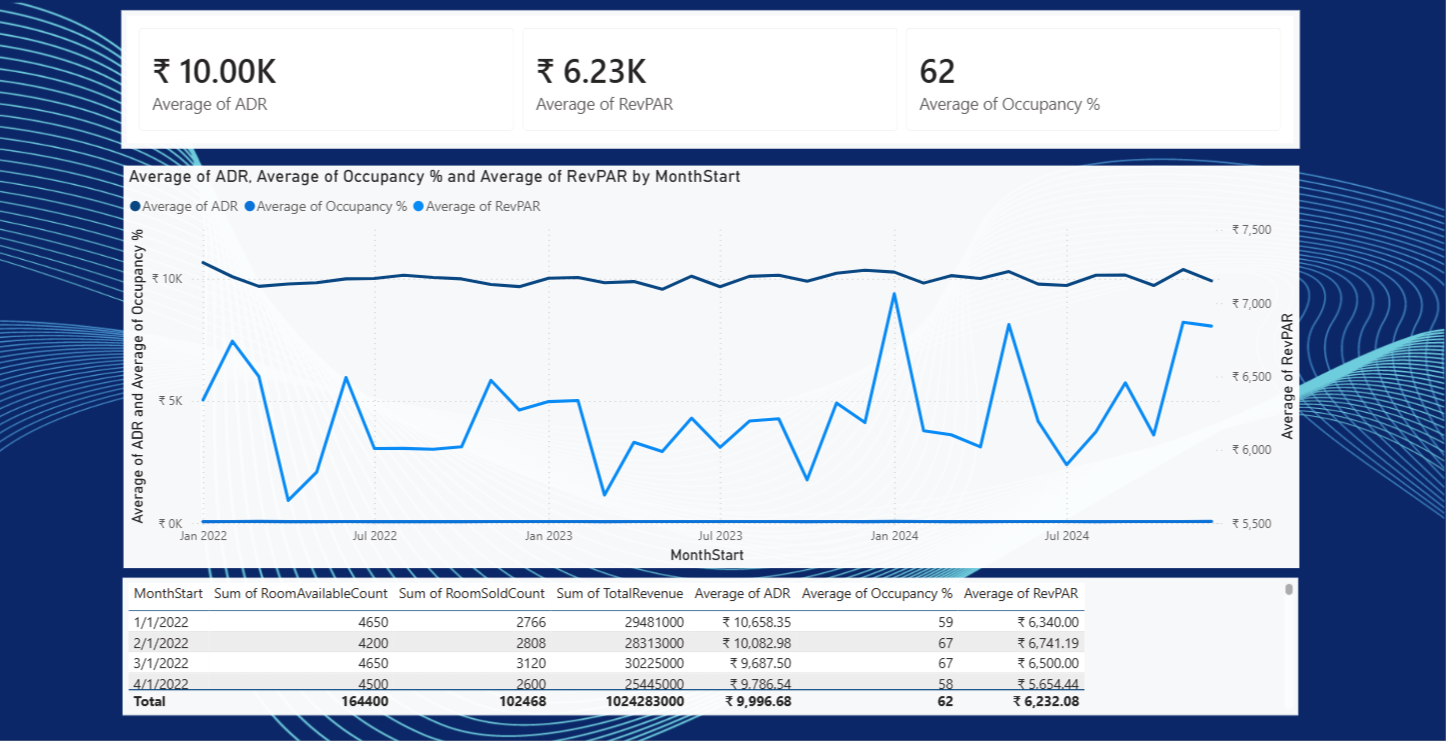

What the dashboard file says about the page in this screenshot:
{"tool":"powerbi","page":{"name":"Monthly Trends","canvas":[1280,720],"ordinal":1},"visuals":[{"type":"lineChart","fields":{"Y":["Avg(MasterData.ADR)","Avg(MasterData.Occupancy %)"],"Y2":["Avg(MasterData.RevPAR)"],"Category":["MasterData.MonthStart"]},"box":[59.7,163,1140.7,390.6],"z":0},{"type":"tableEx","fields":{"Values":["MasterData.MonthStart","Sum(MasterData.RoomAvailableCount)","Sum(MasterData.RoomSoldCount)","Sum(MasterData.TotalRevenue)","Avg(MasterData.ADR)","Avg(MasterData.Occupancy %)","Avg(MasterData.RevPAR)"]},"box":[58.5,562.3,1140.7,133.1],"z":1000},{"type":"cardVisual","fields":{"Data":["Avg(MasterData.ADR)","Avg(MasterData.RevPAR)","Avg(MasterData.Occupancy %)"]},"box":[58.5,16.2,1142,134.3],"z":2000}]}

Visuals, with their boxes on the page's 1280x720 design canvas (x1, y1, x2, y2). These are canvas units, not pixel positions in the 1446x741 screenshot, which may show the page scaled, cropped or inside an application window:
lineChart - Avg(MasterData.ADR) x Avg(MasterData.Occupancy %): <box>60,163,1200,554</box>
tableEx - MasterData.MonthStart x Sum(MasterData.RoomAvailableCount): <box>58,562,1199,695</box>
cardVisual - Avg(MasterData.ADR) x Avg(MasterData.RevPAR): <box>58,16,1200,150</box>
